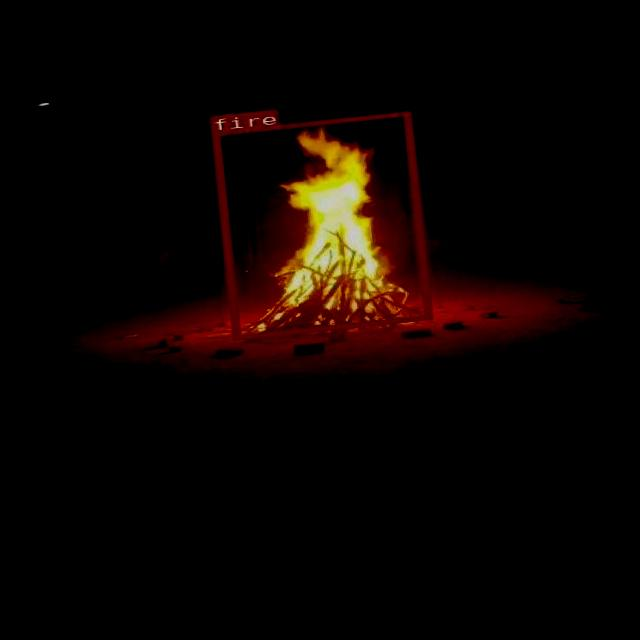fire: (210, 110, 431, 339)
